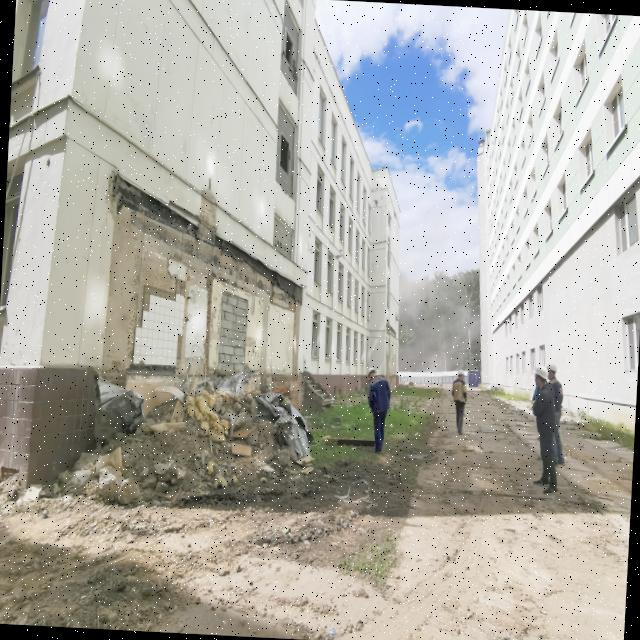Helmet: (533, 367, 550, 383), (546, 364, 558, 377), (368, 369, 378, 379), (459, 371, 467, 379)
NoJacket: (532, 382, 558, 435), (368, 377, 392, 415), (454, 378, 469, 405), (554, 381, 564, 416)
